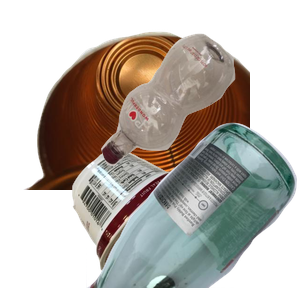glass: (86, 120, 300, 300)
metal: (21, 29, 261, 209)
plastic: (99, 31, 300, 189)
trash: (70, 149, 254, 300)
